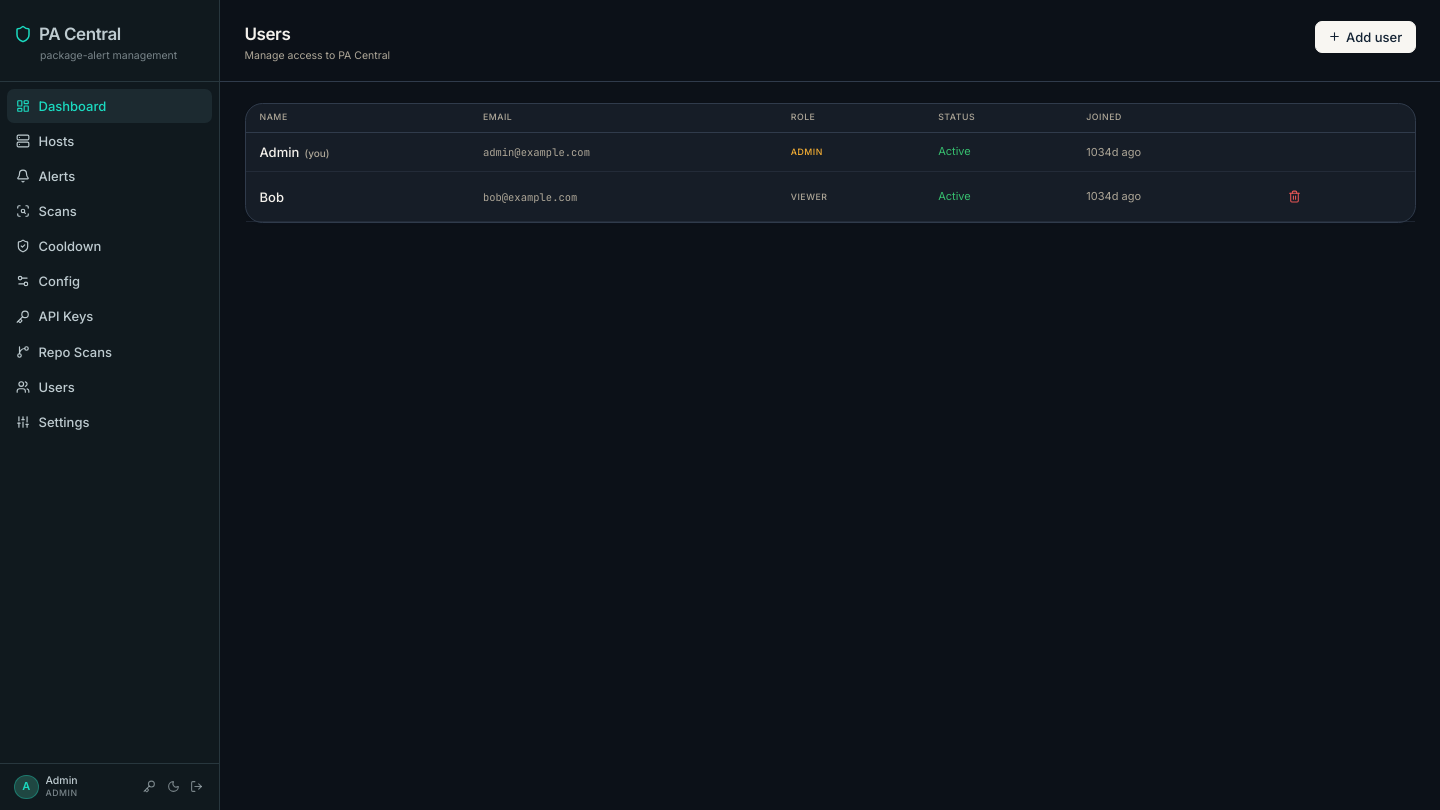
Test case: Users page — admin password reset › warns that the password is invalidated before the admin confirms
This screenshot has width=1440, height=810.
Click the text "Bob". click: (272, 197)
box: [246,172,469,222]
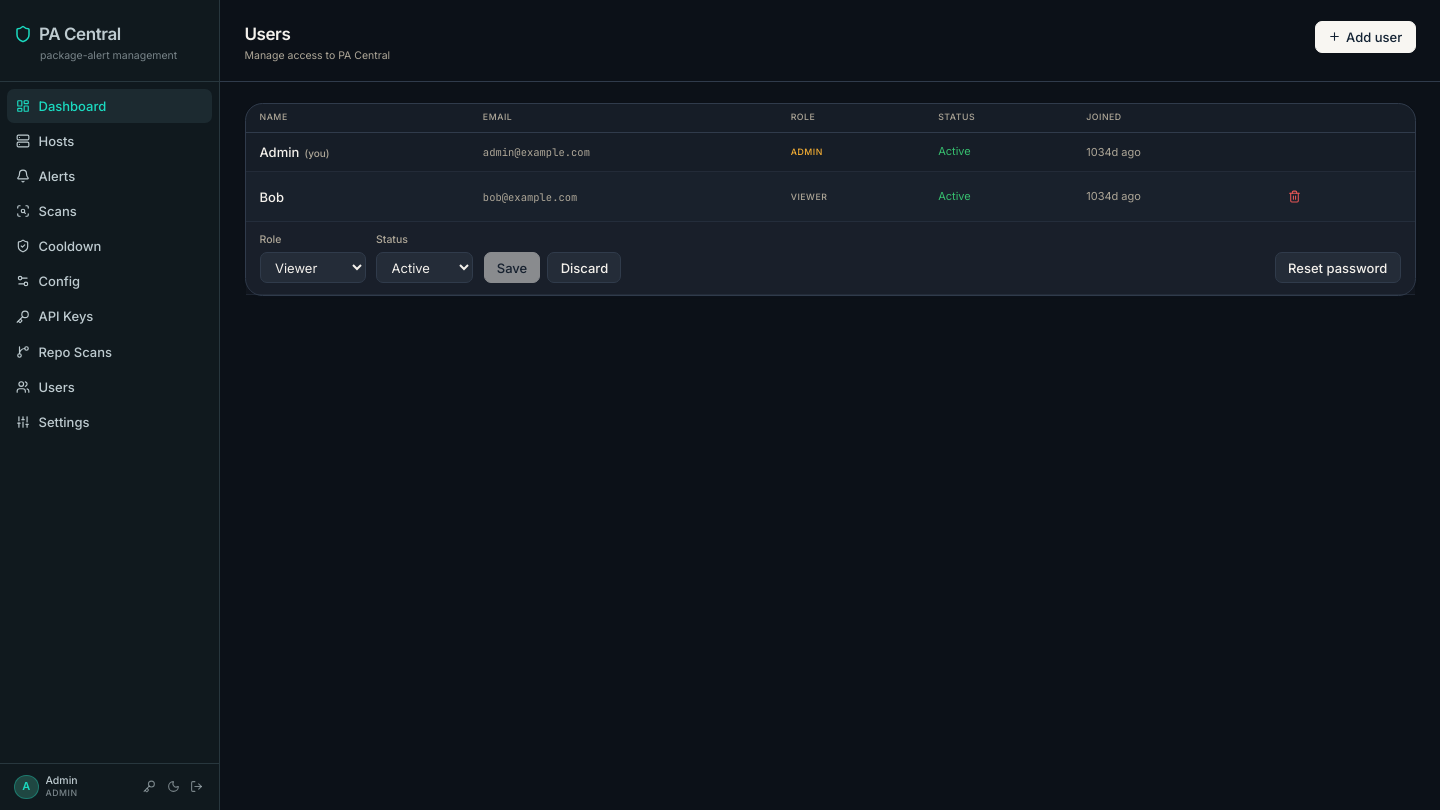
Click the button "Reset password". click: (1338, 268)
box: [1275,252,1400,283]
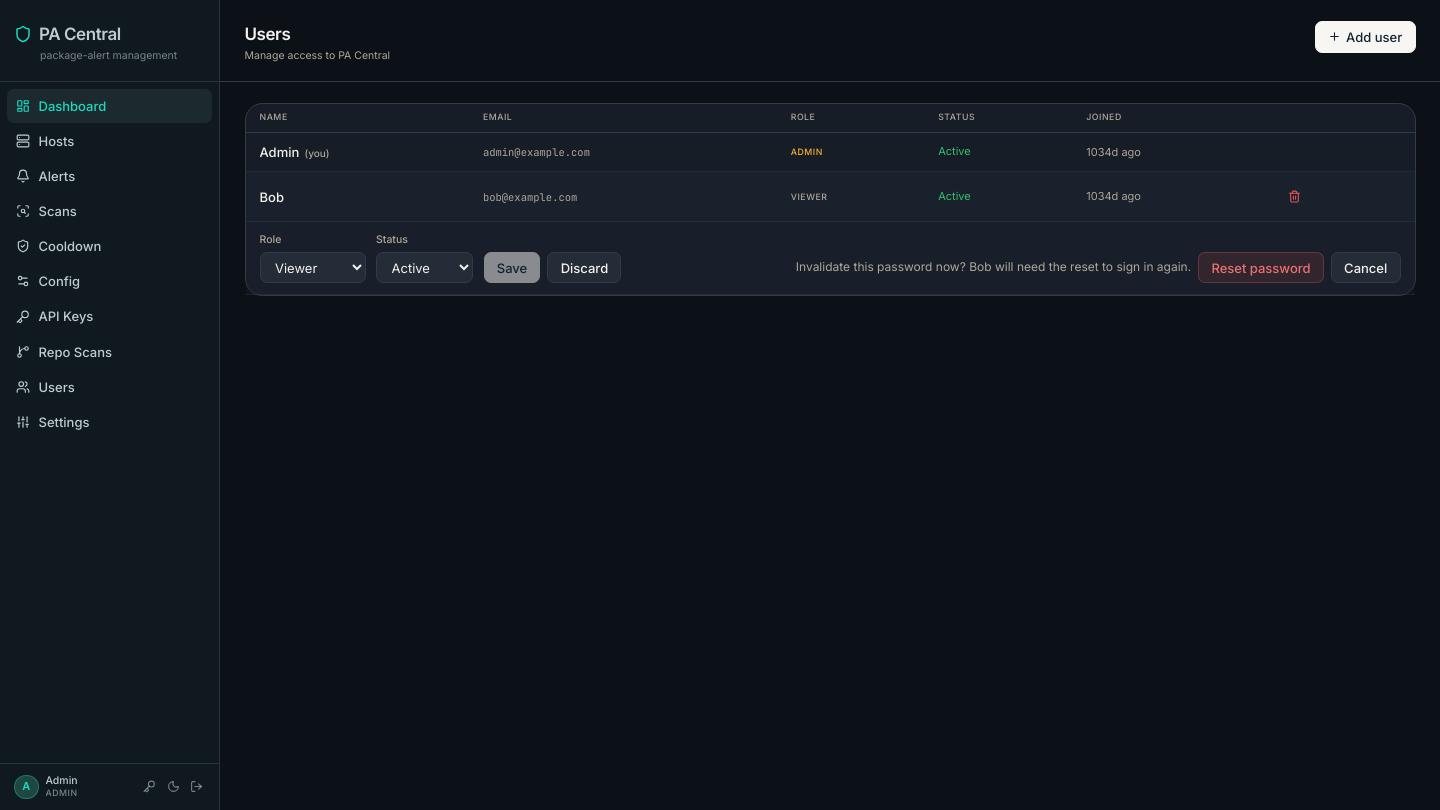
Now the text "Invalidate this password now" is shown, box [796,259,969,274]
Now the text "will need the reset to sign in again" is shown, box [992,259,1191,274]
